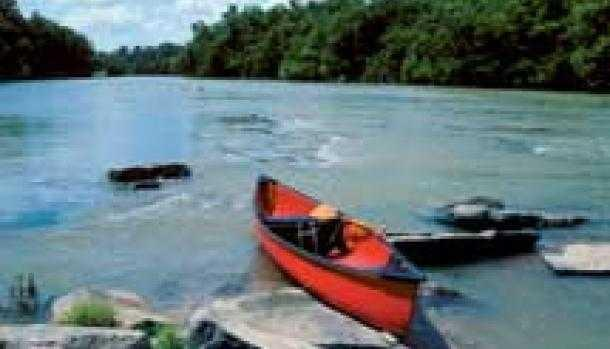kayak: (251, 174, 426, 335), (386, 198, 541, 266), (542, 243, 610, 277), (105, 162, 189, 179)
